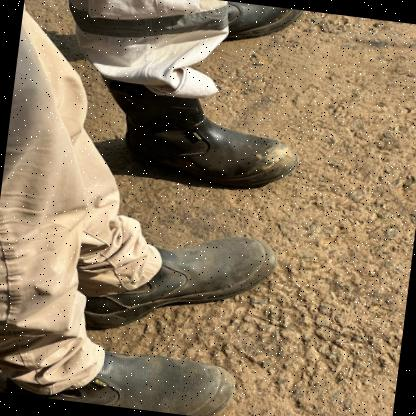bota: (80, 50, 322, 206), (74, 200, 292, 350), (65, 328, 243, 416)
